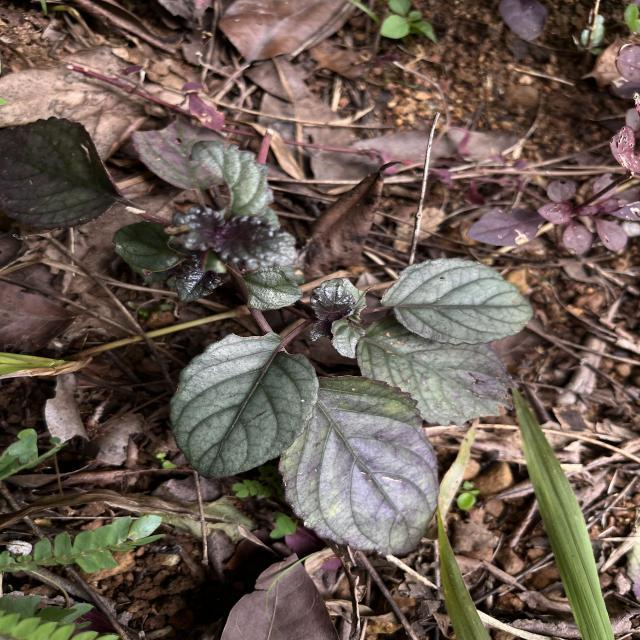Hemigraphis colorata: (274, 372, 444, 559), (164, 329, 322, 482), (377, 255, 537, 348)
